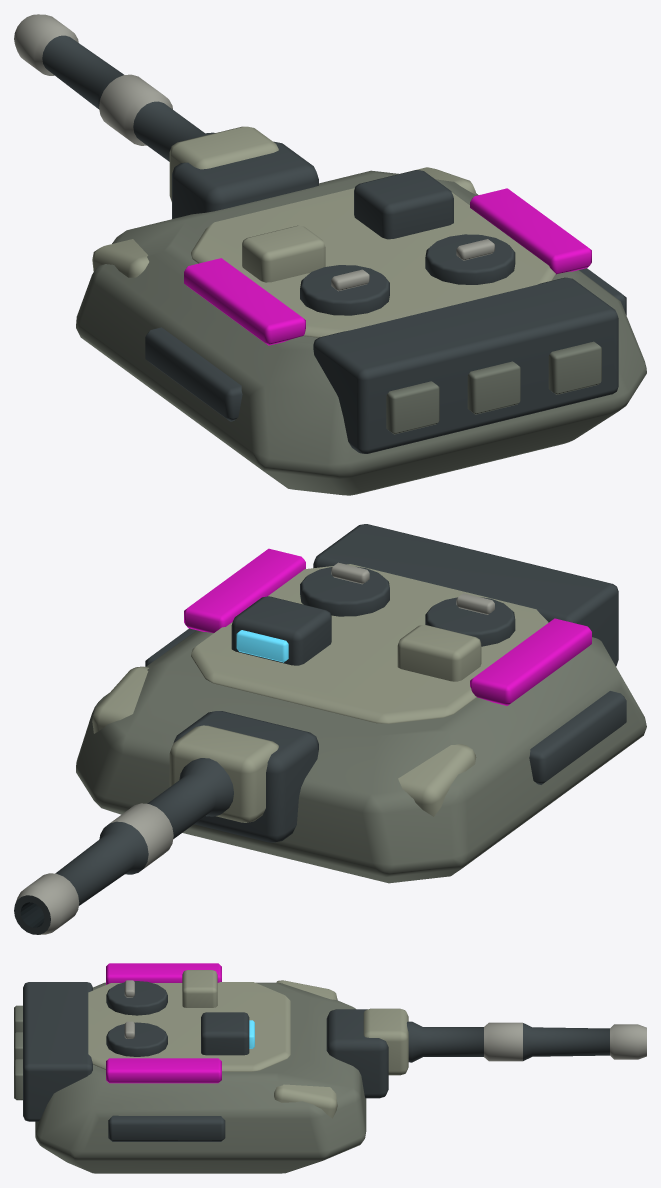
File: medium-tank-turret.glb
3 renders of one model, top to bottom at view 1: azimuth 30°, elevation 25°; view 2: azimuth 150°, elevation 25°; view 3: azimuth 270°, elevation 25°, orthographic. The views are drawn at different scales.
Parts seen in each view (by area): view 1: TurretShell; view 2: TurretShell; view 3: TurretShell.
Boxes of the visible parts, x1,y1,x2,y2 form: TurretShell: [14, 14, 646, 495]; TurretShell: [14, 524, 646, 934]; TurretShell: [14, 963, 646, 1173].
Bounding box in the file's own units: 1.08 × 0.475 × 2.18.
